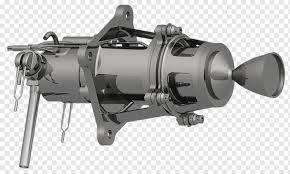thruster: (232, 51, 286, 99)
